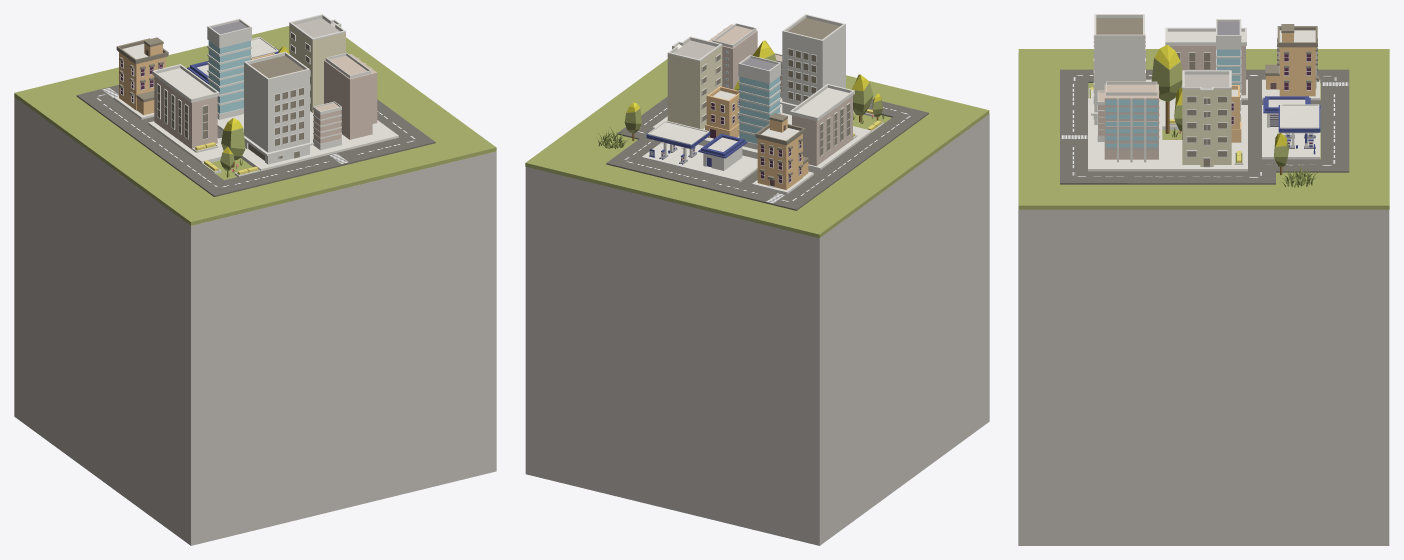
File: City1.fbx
3 renders of one model, left to right at view 1: azimuth 30°, elevation 25°; view 2: azimuth 150°, elevation 25°; view 3: azimuth 270°, elevation 25°, orthographic. The views are drawn at different scales.
Visible parts, largest first — view 1: city_1; view 2: city_1; view 3: city_1.
Boxes of the visible parts, left/top/right/bottom form: city_1: left=14, top=14, right=496, bottom=545; city_1: left=525, top=14, right=989, bottom=545; city_1: left=1018, top=14, right=1389, bottom=545.
Size of the model in its own units: 12 by 15.47 by 12.02.
